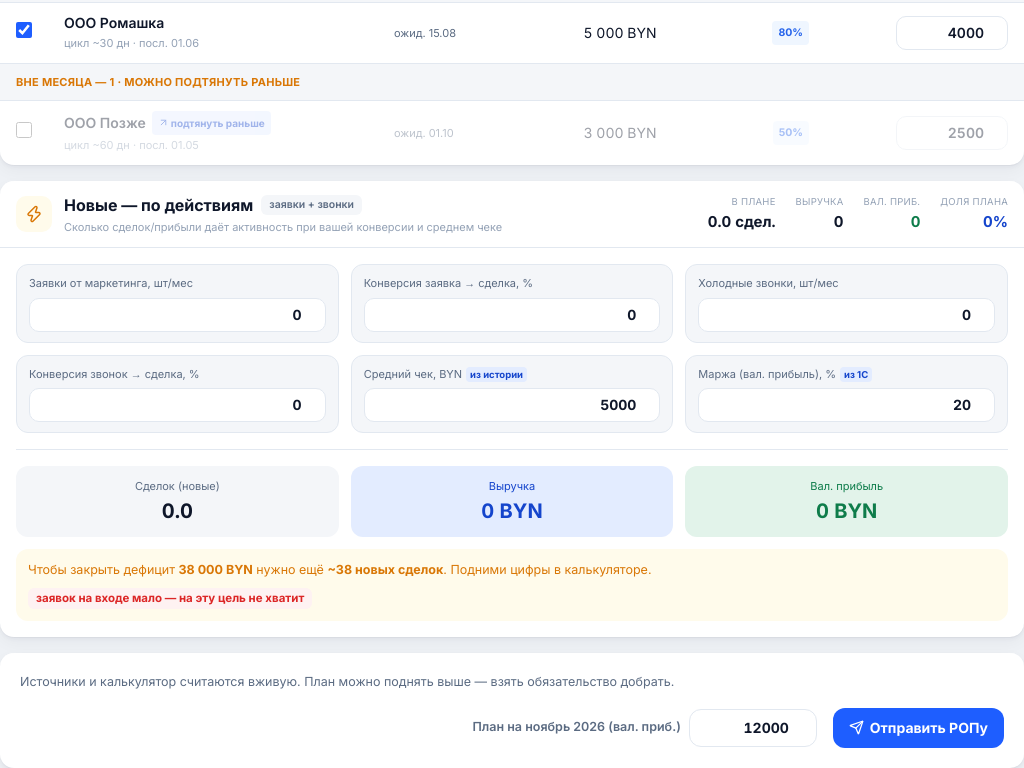
PlanConstructor › «Отправить РОПу» сохраняет снапшот и все 5 метрик → сообщение об успехе
The image size is (1024, 768).
(page scrolled)
Click the button "Отправить РОПу" at (918, 728), box [833,708,1004,748]
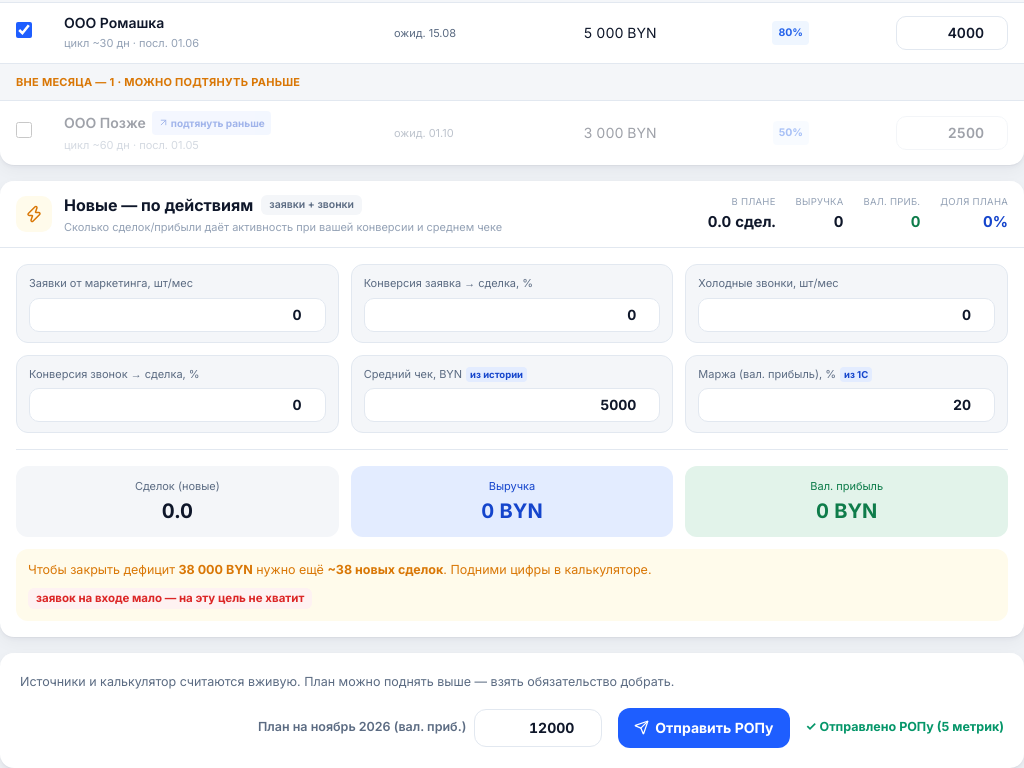
Check: the text "✓ Отправлено РОПу (5 метрик)" is shown, box [806,718,1004,737]
